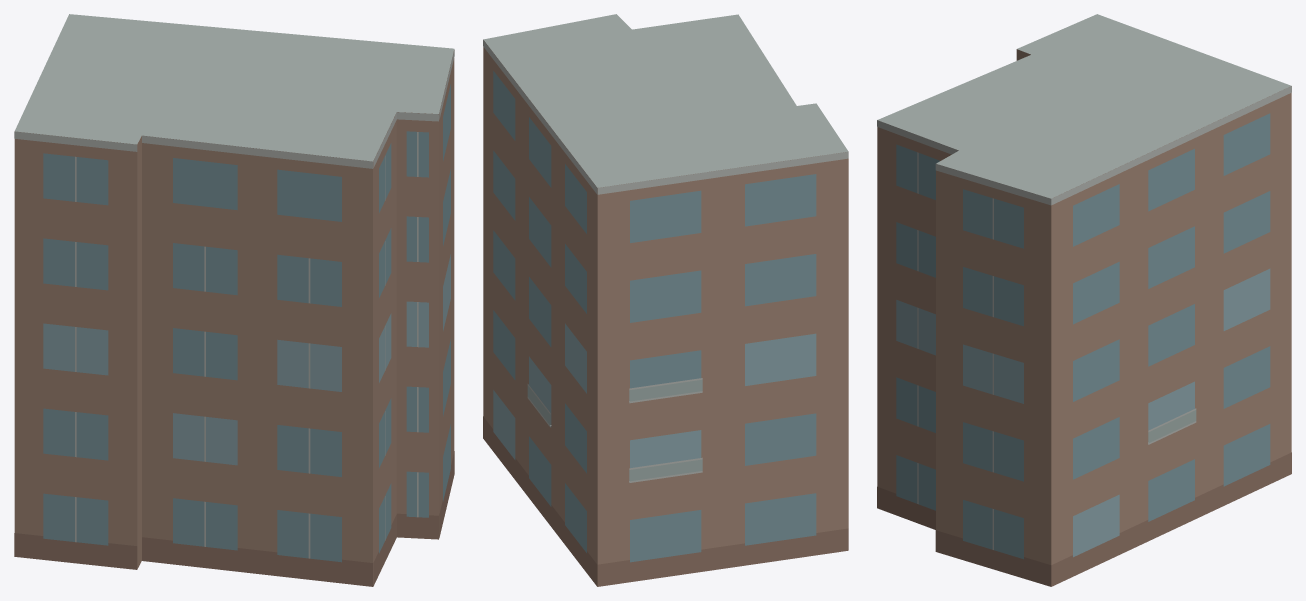
File: survey-upis-32641517.glb
3 views of the same model, side by side, from view 1: azimuth 30°, elevation 25°; view 2: azimuth 150°, elevation 25°; view 3: azimuth 270°, elevation 25° (orthographic). The views are drawn at different scales.
Visible parts, largest first — view 1: survey-upis-32641517.tmp; view 2: survey-upis-32641517.tmp; view 3: survey-upis-32641517.tmp.
Boxes of the visible parts, x1,y1,x2,y2 form: survey-upis-32641517.tmp: (14, 14, 454, 586); survey-upis-32641517.tmp: (483, 14, 848, 586); survey-upis-32641517.tmp: (877, 14, 1291, 586).
Bounding box in the file's own units: 14.3 × 14 × 13.56.
